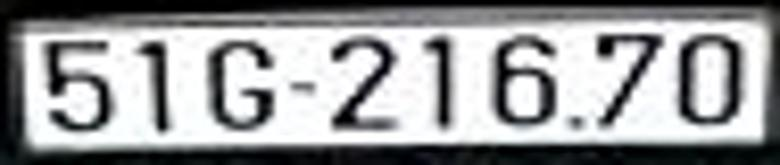-: (287, 78, 317, 94)
.: (568, 113, 582, 131)
0: (677, 34, 740, 126)
1: (135, 37, 169, 136), (421, 34, 454, 130)
2: (329, 33, 394, 130)
5: (44, 39, 112, 131)
6: (494, 33, 556, 125)
7: (596, 33, 664, 133)
G: (203, 37, 276, 131)
